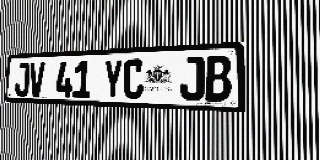1: (73, 61, 91, 98)
4: (56, 61, 73, 98)
B: (205, 55, 231, 102)
C: (123, 59, 144, 99)
J: (180, 56, 204, 101), (15, 63, 30, 96)
V: (29, 62, 45, 97)
Y: (103, 59, 123, 99)
